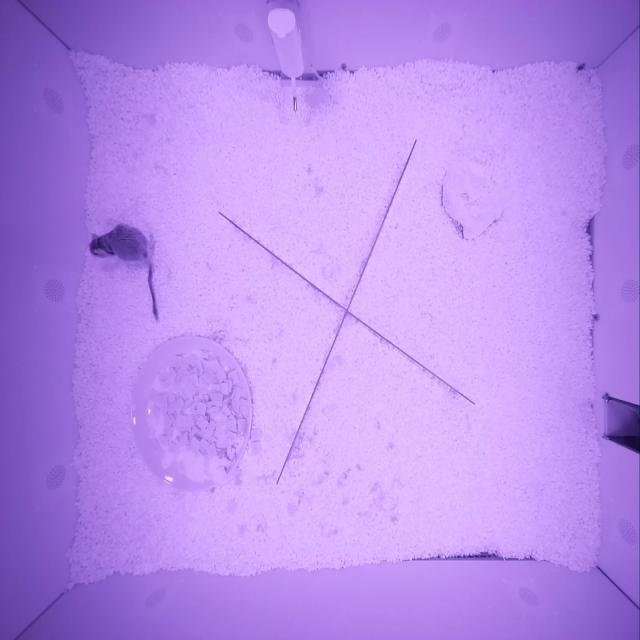adult_front: (90, 222, 150, 265)
